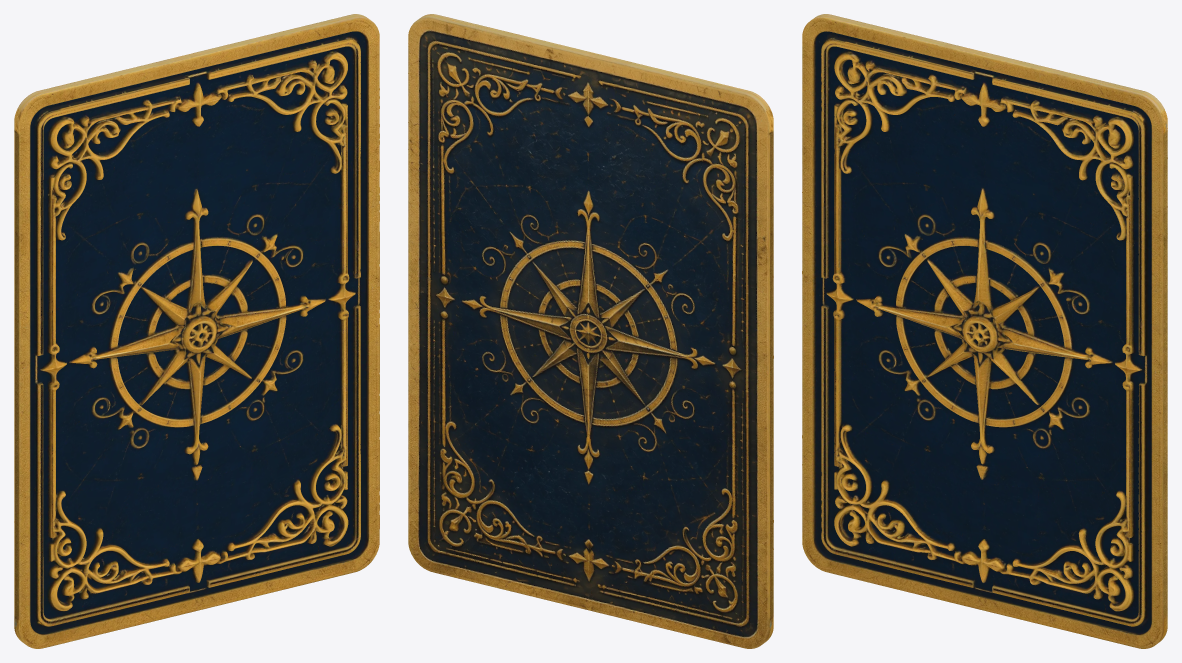
File: card_back.glb
The picture shows the model from 3 angles, left to right: view 1: azimuth 30°, elevation 25°; view 2: azimuth 150°, elevation 25°; view 3: azimuth 330°, elevation 25°; orthographic projection.
Bounding box in the file's own units: 1.3 × 1.9 × 0.0536.
Materials: 1 (1 with a texture image).
